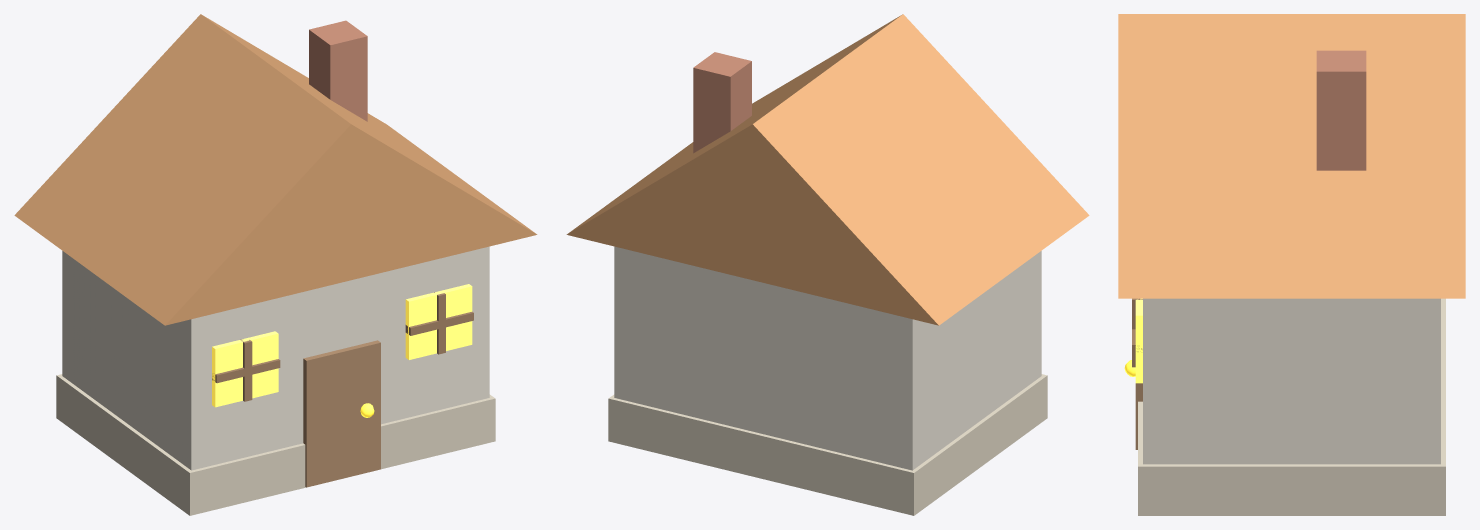
Rendered from rumah_ucil.glb.
3 views of the same model, side by side, from view 1: azimuth 30°, elevation 25°; view 2: azimuth 150°, elevation 25°; view 3: azimuth 270°, elevation 25° (orthographic). The views are drawn at different scales.
Visible parts, largest first — view 1: rumah_ucil; view 2: rumah_ucil; view 3: rumah_ucil.
Boxes of the visible parts, x1=… form: rumah_ucil: x1=14, y1=14, x2=537, y2=515; rumah_ucil: x1=566, y1=14, x2=1089, y2=515; rumah_ucil: x1=1118, y1=14, x2=1465, y2=515.
Size of the model in its own units: 2 by 1.85 by 1.4.
